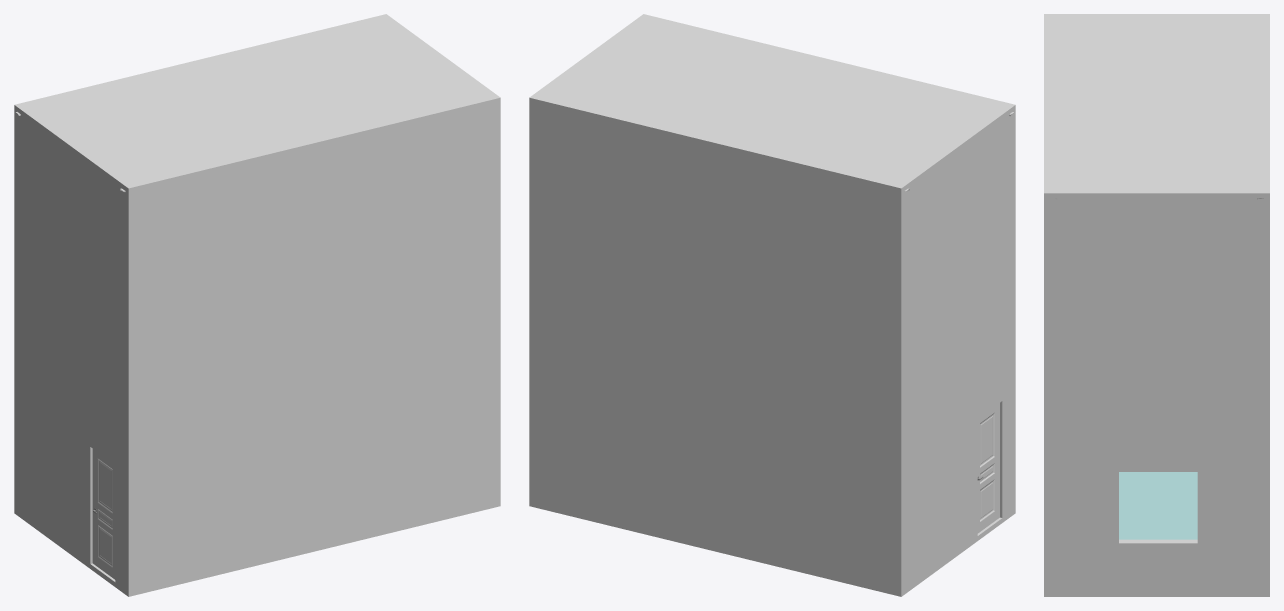
File: Bathroom_mar2.fbx
3 renders of one model, left to right at view 1: azimuth 30°, elevation 25°; view 2: azimuth 150°, elevation 25°; view 3: azimuth 270°, elevation 25°, orthographic.
Parts seen in each view (by area): view 1: polySurface158, polySurface157; view 2: polySurface158, polySurface157; view 3: polySurface158.
Boxes of the visible parts, box(x1,y1,x2,y2) form: polySurface158: box(14, 14, 500, 596); polySurface157: box(92, 449, 115, 579); polySurface158: box(529, 14, 1015, 596); polySurface157: box(977, 403, 999, 533); polySurface158: box(1044, 14, 1269, 596).
Size of the model in its own units: 6.62 by 6.9 by 3.5.
